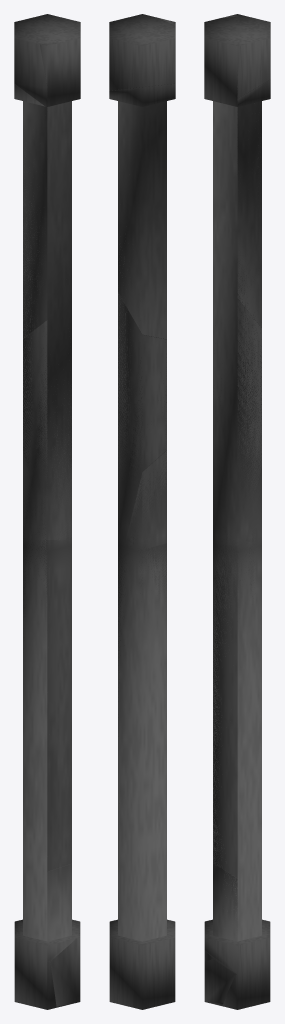
File: DestroyPillar.fbx
3 renders of one model, left to right at view 1: azimuth 90°, elevation 25°; view 2: azimuth 210°, elevation 25°; view 3: azimuth 270°, elevation 25°, orthographic.
Parts seen in each view (by area): view 1: Pillar, Pillar_cell.007, Pillar_cell.014, Pillar_cell.010, Pillar_cell.005, Pillar_cell.008, Pillar_cell.003, Pillar_cell.013, Pillar_cell.001, Pillar_cell.012; view 2: Pillar, Pillar_cell.014, Pillar_cell.010, Pillar_cell.008, Pillar_cell.013, Pillar_cell.007; view 3: Pillar, Pillar_cell.007, Pillar_cell.014, Pillar_cell.010, Pillar_cell.009, Pillar_cell.008, Pillar_cell.006, Pillar_cell.013, Pillar_cell.002.
Boxes of the visible parts, bbox=[...] form: Pillar: bbox=[14, 14, 80, 1009]; Pillar_cell.007: bbox=[23, 539, 71, 871]; Pillar_cell.014: bbox=[14, 84, 47, 338]; Pillar_cell.010: bbox=[23, 320, 71, 540]; Pillar_cell.005: bbox=[47, 864, 75, 961]; Pillar_cell.008: bbox=[14, 38, 47, 106]; Pillar_cell.003: bbox=[50, 933, 80, 1007]; Pillar_cell.013: bbox=[23, 452, 39, 542]; Pillar_cell.001: bbox=[47, 961, 56, 1009]; Pillar_cell.012: bbox=[39, 42, 63, 84]; Pillar: bbox=[109, 14, 175, 1009]; Pillar_cell.014: bbox=[109, 83, 175, 339]; Pillar_cell.010: bbox=[118, 293, 166, 514]; Pillar_cell.008: bbox=[109, 38, 175, 90]; Pillar_cell.013: bbox=[126, 450, 166, 549]; Pillar_cell.007: bbox=[118, 539, 166, 650]; Pillar: bbox=[204, 16, 270, 1009]; Pillar_cell.007: bbox=[213, 542, 255, 878]; Pillar_cell.014: bbox=[237, 79, 270, 327]; Pillar_cell.010: bbox=[213, 298, 261, 544]; Pillar_cell.009: bbox=[204, 863, 237, 973]; Pillar_cell.008: bbox=[237, 38, 270, 98]; Pillar_cell.006: bbox=[204, 959, 235, 1005]; Pillar_cell.013: bbox=[246, 468, 261, 542]; Pillar_cell.002: bbox=[222, 974, 237, 1009].
Size of the model in its own units: 142 by 1980 by 123.
